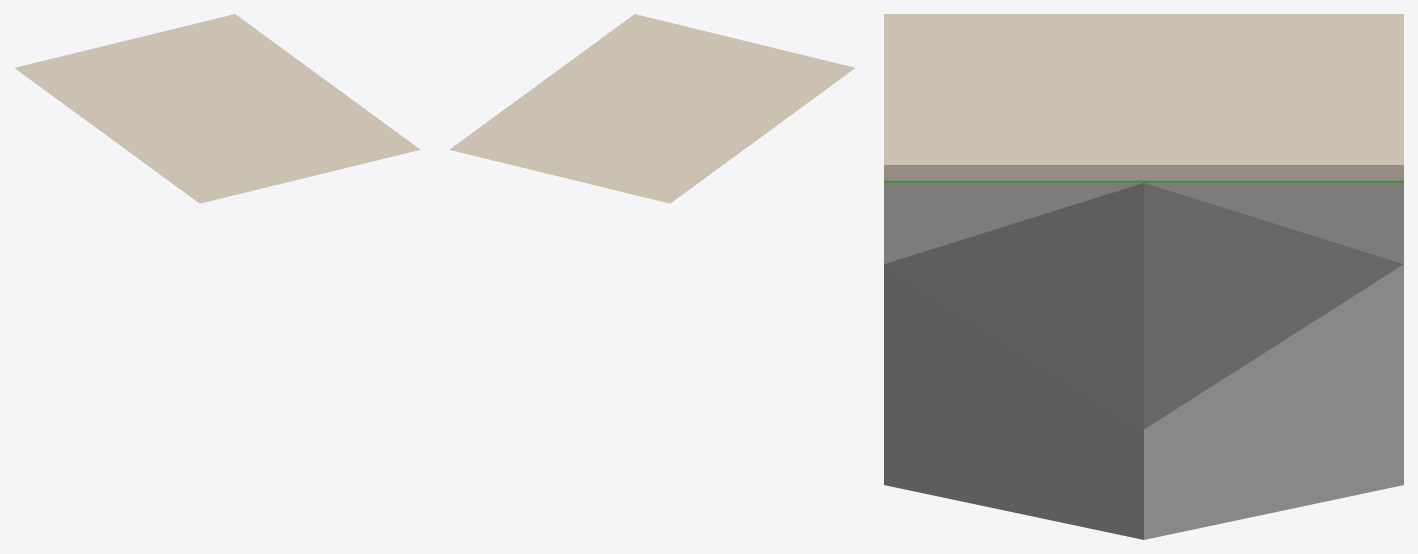
The model's file is Cliff_Terrain_Side_Falloff_Center.glb.
The picture shows the model from 3 angles, left to right: view 1: azimuth 30°, elevation 25°; view 2: azimuth 150°, elevation 25°; view 3: azimuth 270°, elevation 25°; orthographic projection. The views are drawn at different scales.
Visible parts, largest first — view 1: Cliff_Terrain_Side_Falloff_Center; view 2: Cliff_Terrain_Side_Falloff_Center; view 3: Cliff_Terrain_Side_Falloff_Center.
Boxes of the visible parts, <box> form: Cliff_Terrain_Side_Falloff_Center: <box>15,14,420,203</box>; Cliff_Terrain_Side_Falloff_Center: <box>449,14,854,203</box>; Cliff_Terrain_Side_Falloff_Center: <box>884,14,1403,539</box>.
Bounding box in the file's own units: 0.6875 × 1 × 1.
